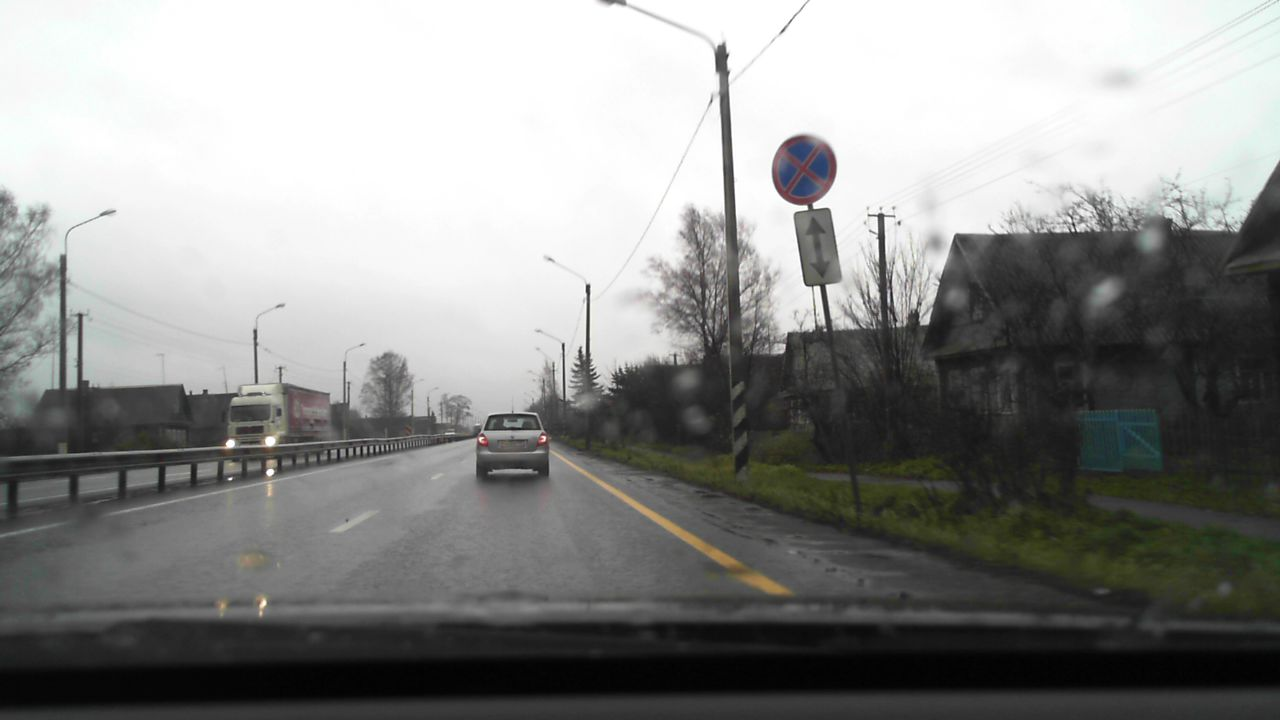No Parking: (771, 133, 836, 205)
